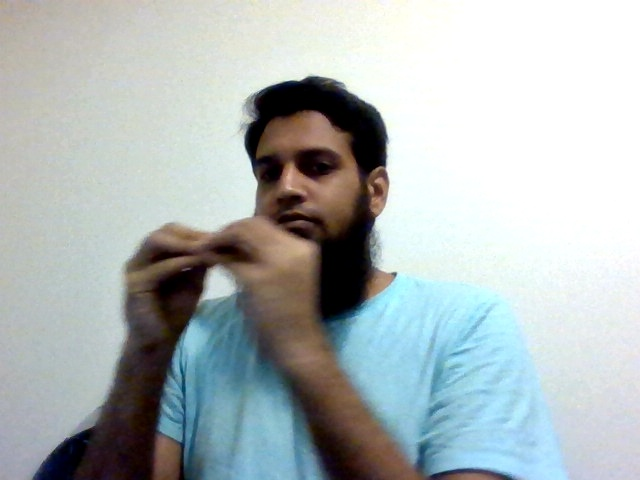more: (121, 215, 322, 355)
